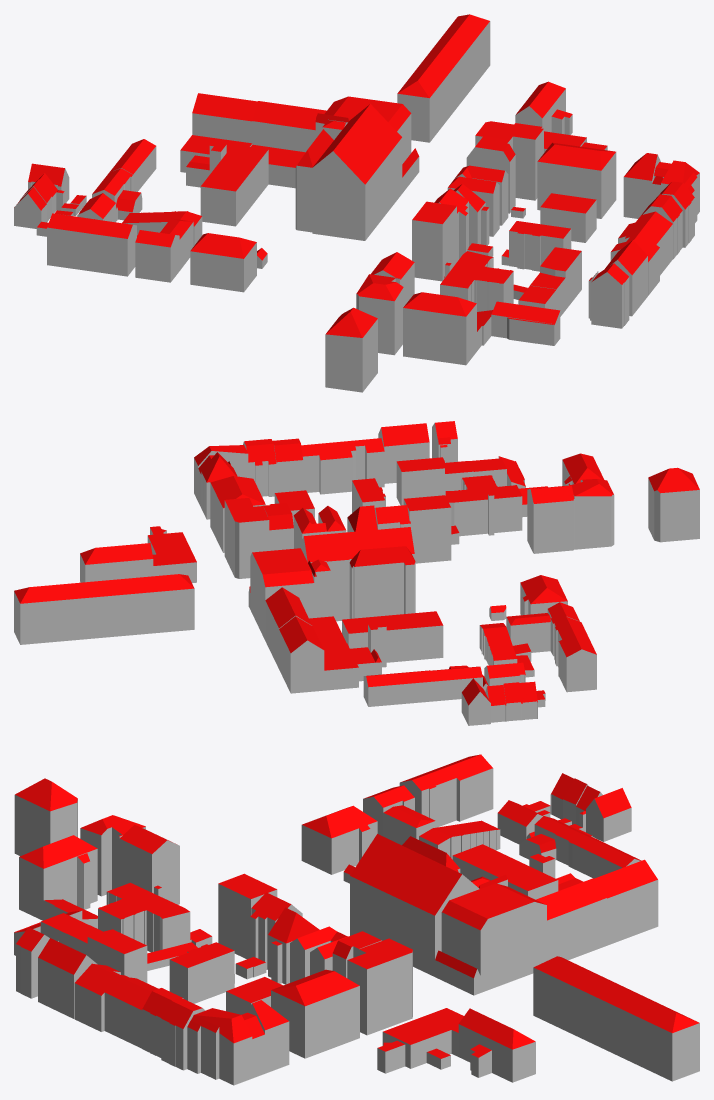
3 renders of one model, top to bottom at view 1: azimuth 30°, elevation 25°; view 2: azimuth 150°, elevation 25°; view 3: azimuth 270°, elevation 25°, orthographic. The views are drawn at different scales.
Bounding box in the file's own units: 212 × 31.82 × 213.
